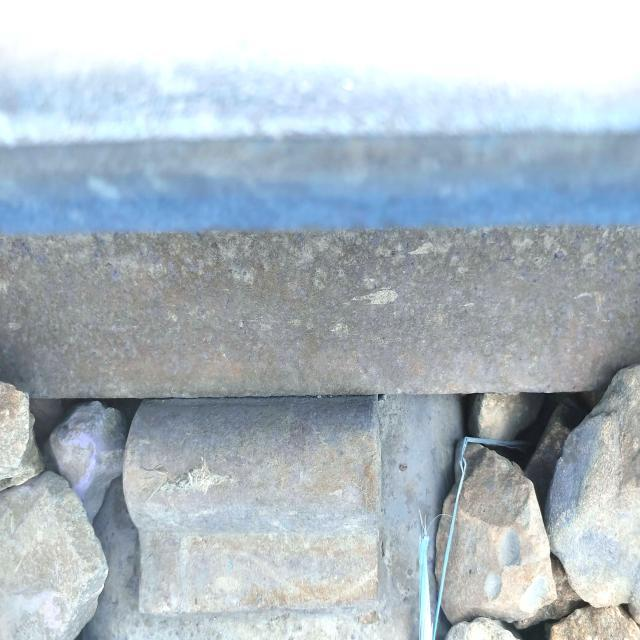Missing Fastener: (89, 355, 411, 640)
